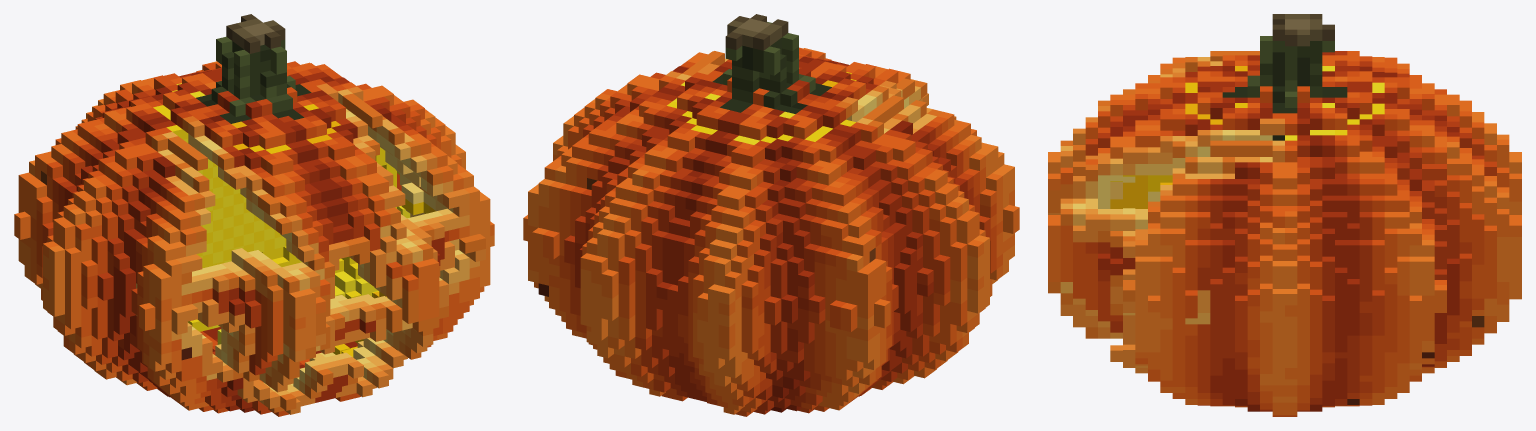
The model's file is pumpkin.obj.
3 views of the same model, side by side, from view 1: azimuth 30°, elevation 25°; view 2: azimuth 150°, elevation 25°; view 3: azimuth 270°, elevation 25° (orthographic). The views are drawn at different scales.
Visible parts, largest first — view 1: pumpkin; view 2: pumpkin; view 3: pumpkin.
Boxes of the visible parts, x1=… form: pumpkin: x1=14, y1=14, x2=494, y2=416; pumpkin: x1=523, y1=14, x2=1019, y2=416; pumpkin: x1=1048, y1=14, x2=1521, y2=416.
Size of the model in its own units: 0.52 by 0.416 by 0.494.
1 material, 1 textured.
